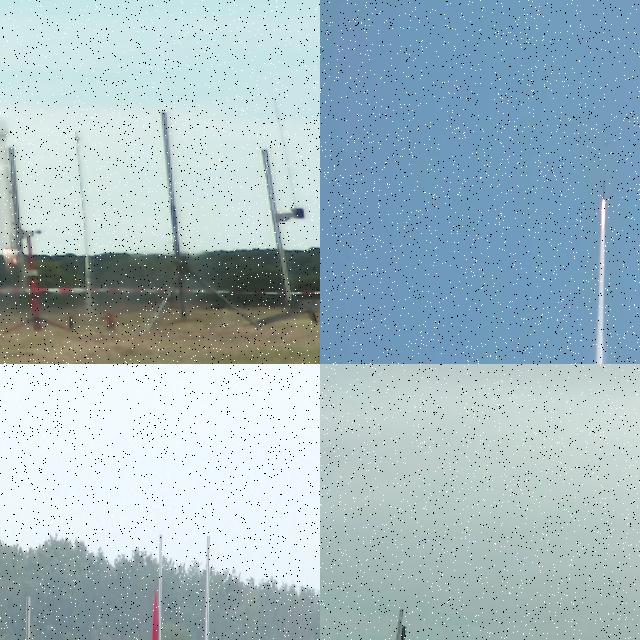Rocket: (0, 108, 21, 249), (139, 588, 163, 640), (602, 180, 605, 201)
